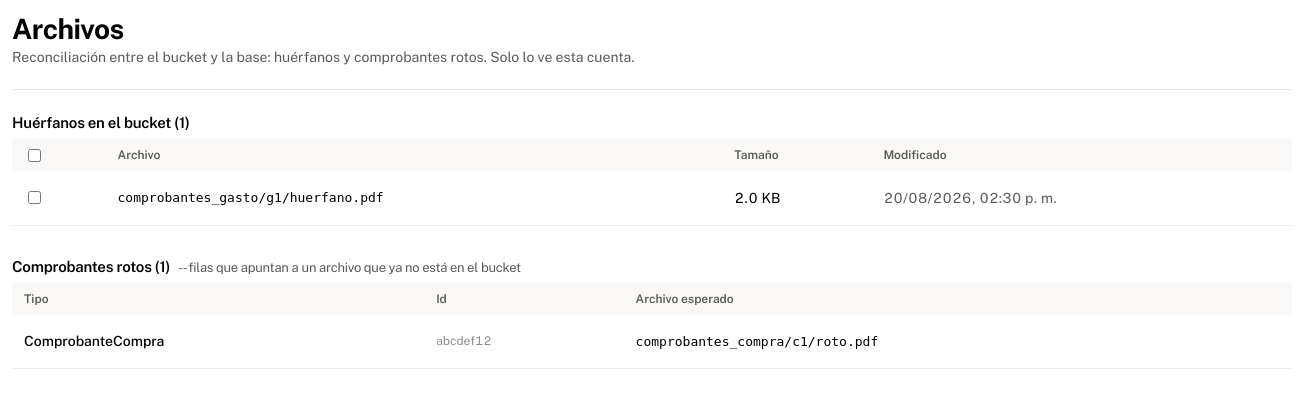
Test case: GestionArchivos (página de Manager) › el botón de purgar solo aparece con algo seleccionado
Expected: the text "comprobantes_gasto/g1/huerfano.pdf" is shown, [106, 171, 722, 225]
Expected: the button "purgar" is not shown
Click the checkbox named "seleccionar comprobantes_gasto".
click(34, 198)  # box [28, 191, 41, 204]
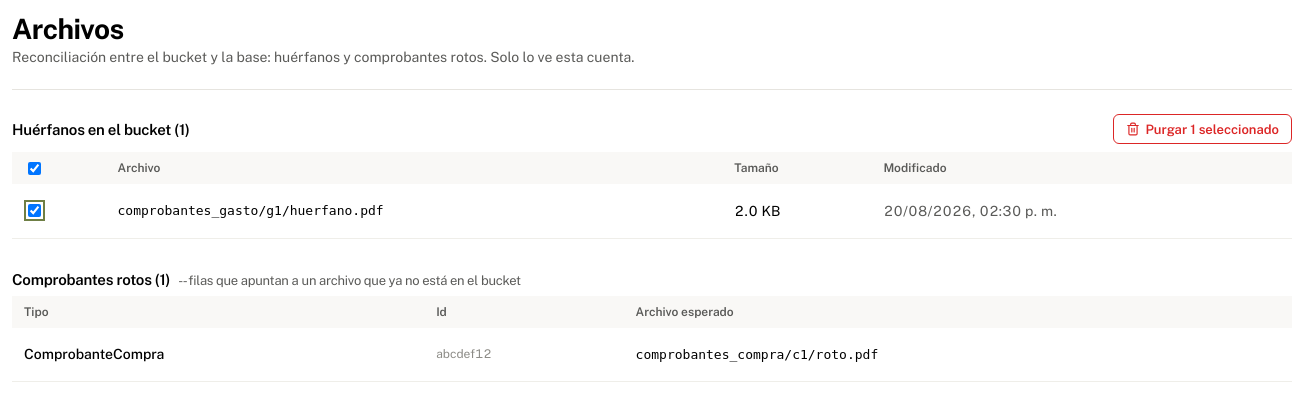
Result: the button "Purgar 1 seleccionado" is shown at [1112, 114, 1292, 144]
